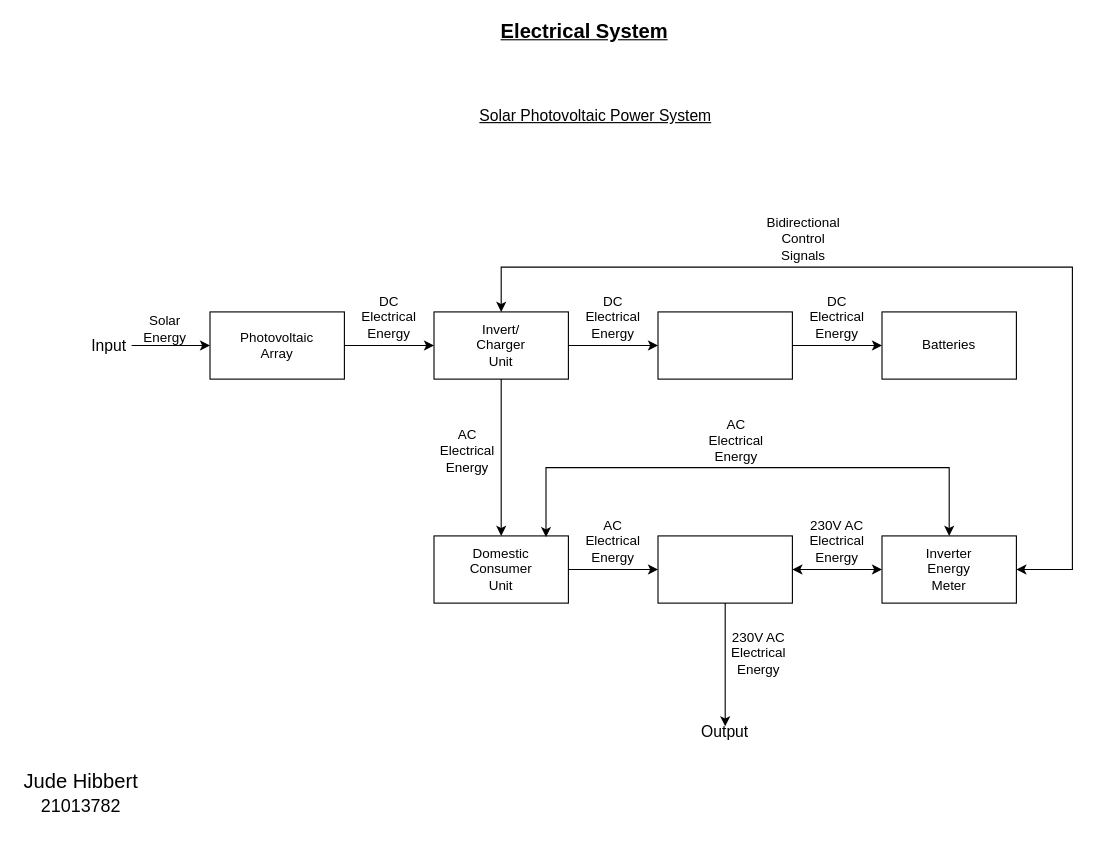
The diagram is 1102 pixels wide and 846 high, and some of its shapes have lost their labels. The centre of each missing label's shape, as x and y in pixels:
Battery Storage Unit: the point at 724,345
Utility Mains Supply: the point at 724,569
